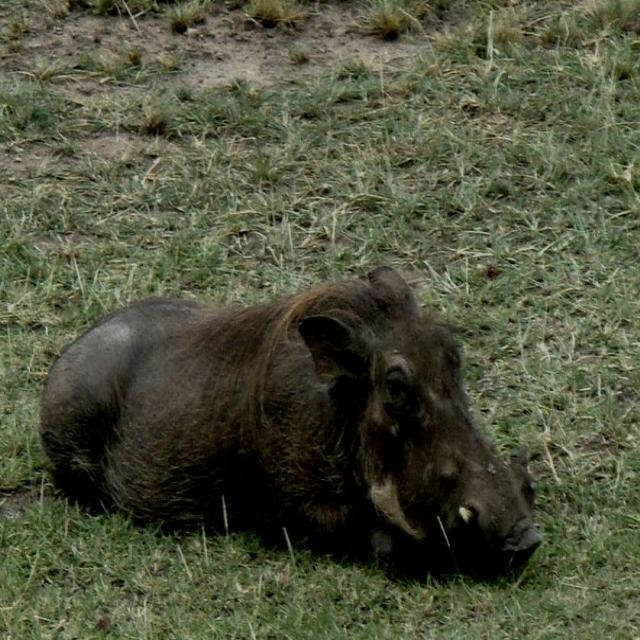pig: (40, 267, 541, 575)
